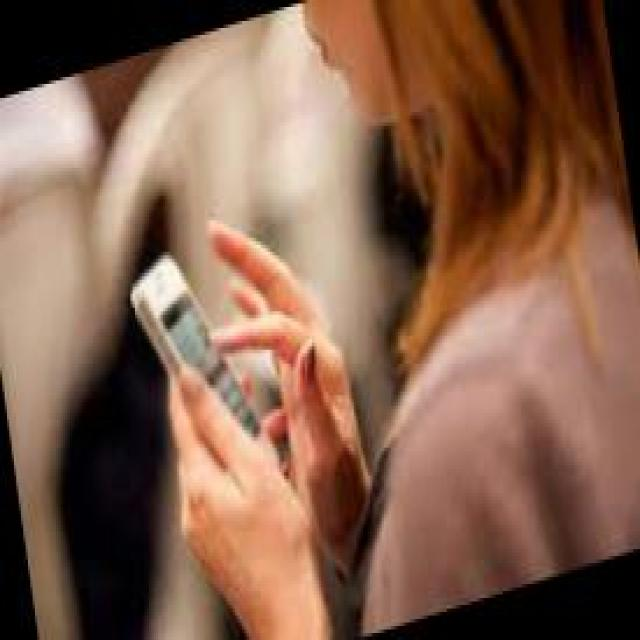phone: (129, 253, 282, 493)
